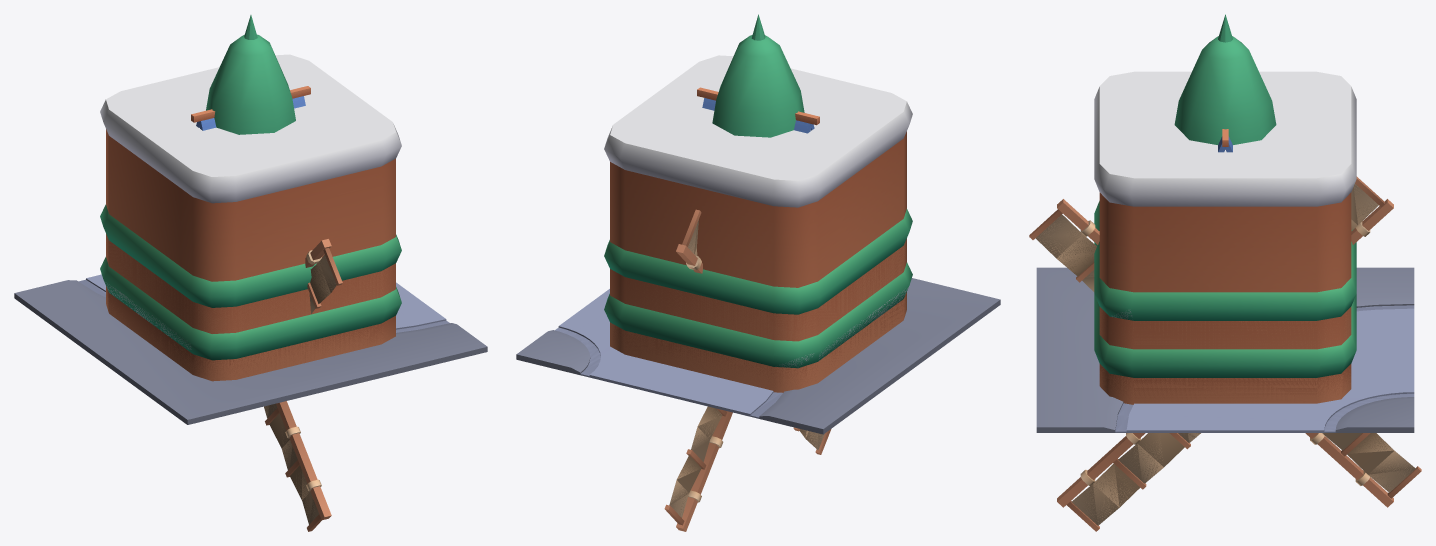
The model's file is hub.glb.
3 renders of one model, left to right at view 1: azimuth 30°, elevation 25°; view 2: azimuth 150°, elevation 25°; view 3: azimuth 270°, elevation 25°, orthographic. The views are drawn at different scales.
Visible parts, largest first — view 1: block-snow-large-tall.001, road-bend.001, block-grass-large.001, block-grass-low-large.001, tree-high-round, windmill.001, tower-slant-roof.001, block-snow-low-large.001; view 2: block-snow-large-tall.001, block-grass-large.001, road-bend.001, block-grass-low-large.001, tree-high-round, windmill.001, tower-slant-roof.001; view 3: block-snow-large-tall.001, road-bend.001, block-grass-large.001, windmill.001, block-grass-low-large.001, tree-high-round.
Part boxes in pixels (x1,y1,x2,y2): block-snow-large-tall.001: [100, 54, 401, 379]; road-bend.001: [14, 274, 487, 424]; block-grass-large.001: [100, 204, 401, 381]; block-grass-low-large.001: [100, 257, 401, 381]; tree-high-round: [206, 34, 295, 134]; windmill.001: [264, 239, 342, 531]; tower-slant-roof.001: [191, 86, 310, 130]; block-snow-low-large.001: [105, 282, 395, 380]; block-snow-large-tall.001: [604, 55, 912, 392]; block-grass-large.001: [604, 209, 912, 392]; road-bend.001: [516, 278, 1000, 434]; block-grass-low-large.001: [604, 262, 912, 392]; tree-high-round: [712, 35, 804, 137]; windmill.001: [664, 209, 831, 531]; tower-slant-roof.001: [697, 87, 819, 133]; block-snow-large-tall.001: [1094, 71, 1356, 403]; road-bend.001: [1036, 267, 1414, 432]; block-grass-large.001: [1094, 201, 1356, 404]; windmill.001: [1029, 176, 1421, 531]; block-grass-low-large.001: [1094, 294, 1356, 404]; tree-high-round: [1174, 36, 1276, 144].
Size of the model in its own units: 3 by 4.53 by 3.11.
Materials: 26 (4 with a texture image).
